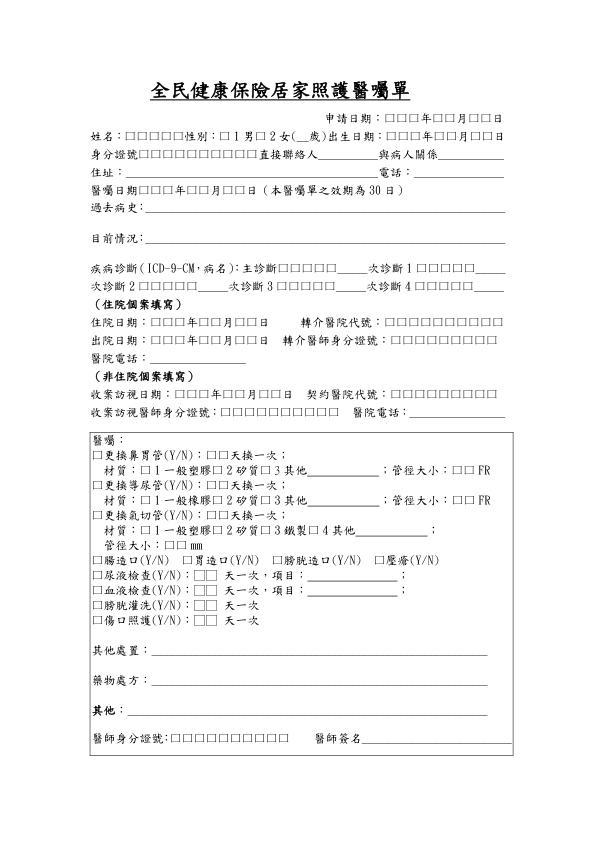check_box: (270, 553, 285, 567), (138, 462, 153, 476), (210, 493, 224, 507), (91, 507, 104, 522), (91, 551, 104, 566), (308, 523, 321, 538), (254, 126, 266, 142), (180, 553, 194, 566), (139, 493, 152, 507), (219, 128, 230, 144), (211, 524, 224, 537), (373, 553, 385, 567), (259, 523, 271, 537), (91, 449, 104, 461), (211, 464, 224, 476), (260, 493, 271, 507), (92, 478, 104, 490), (92, 584, 104, 596), (91, 613, 103, 625), (259, 464, 271, 476), (139, 525, 152, 536), (92, 569, 103, 581), (91, 599, 103, 610)
input: (145, 230, 508, 248), (127, 702, 489, 719), (146, 201, 508, 217), (151, 644, 489, 659), (151, 672, 489, 687), (125, 163, 375, 180), (363, 729, 511, 748), (384, 312, 505, 330), (169, 728, 289, 745), (388, 332, 498, 349), (138, 146, 257, 161), (218, 405, 342, 419), (387, 387, 501, 402), (408, 404, 508, 421), (149, 350, 248, 367), (413, 165, 506, 181), (306, 585, 399, 600), (308, 493, 380, 511), (356, 522, 428, 540), (307, 570, 396, 583), (308, 463, 380, 479), (437, 148, 504, 163), (274, 279, 335, 295), (319, 146, 376, 163), (124, 128, 183, 143), (278, 260, 337, 275), (412, 279, 473, 293), (137, 279, 197, 293), (415, 261, 474, 273), (338, 258, 365, 279), (149, 332, 186, 346), (474, 260, 506, 276), (386, 128, 420, 143), (150, 315, 185, 329), (174, 387, 209, 401), (385, 110, 419, 124), (473, 280, 504, 295), (191, 614, 220, 630), (139, 184, 172, 198), (221, 182, 246, 200), (450, 491, 475, 508), (335, 280, 363, 295), (432, 126, 456, 143), (192, 567, 219, 582), (191, 598, 219, 612), (198, 281, 228, 294), (257, 386, 283, 401), (467, 109, 491, 125), (450, 463, 477, 477), (191, 583, 218, 597), (468, 128, 493, 143), (234, 313, 257, 329), (197, 332, 221, 347), (205, 478, 230, 492), (234, 332, 257, 347), (221, 386, 244, 401), (186, 183, 210, 196), (432, 110, 455, 123), (203, 508, 230, 519), (163, 538, 187, 550), (197, 315, 220, 327), (205, 449, 230, 460), (297, 128, 310, 142)
text: (144, 78, 417, 105), (86, 261, 277, 276), (246, 182, 405, 199), (282, 333, 386, 351), (89, 405, 217, 419), (94, 367, 197, 384), (92, 296, 184, 312), (297, 313, 381, 330), (105, 508, 201, 522), (104, 612, 190, 627), (104, 449, 203, 462), (86, 387, 173, 401), (104, 478, 201, 490), (104, 598, 191, 611), (306, 387, 386, 401), (309, 129, 383, 144), (92, 731, 170, 745), (382, 462, 448, 478), (383, 492, 449, 508), (104, 551, 169, 567), (104, 569, 190, 581), (104, 584, 190, 596), (259, 145, 317, 162), (322, 110, 383, 126), (229, 478, 288, 493), (89, 332, 147, 347), (153, 493, 211, 508), (87, 201, 144, 216), (89, 350, 146, 365), (89, 146, 138, 163), (89, 315, 147, 329), (92, 672, 146, 687), (89, 231, 144, 245), (351, 405, 406, 419), (89, 182, 137, 198), (229, 450, 292, 462), (379, 148, 437, 161), (154, 523, 211, 536), (228, 278, 273, 294), (101, 539, 160, 551), (365, 279, 412, 294), (153, 465, 211, 477), (312, 732, 360, 746), (367, 261, 411, 276), (92, 644, 147, 656), (229, 510, 289, 521), (89, 279, 135, 293), (91, 701, 123, 720), (223, 568, 261, 583), (223, 584, 262, 598), (273, 492, 306, 508), (86, 129, 123, 143), (87, 164, 124, 178), (101, 523, 138, 537), (273, 462, 305, 478), (377, 164, 411, 179), (223, 614, 259, 628), (322, 524, 355, 539), (271, 524, 308, 537), (92, 433, 126, 447), (225, 493, 259, 507), (183, 129, 216, 143), (99, 493, 137, 505), (269, 568, 304, 581), (225, 464, 260, 477), (223, 599, 260, 611), (226, 524, 258, 537), (271, 584, 303, 596), (101, 465, 135, 476), (232, 128, 253, 142), (477, 462, 495, 478), (477, 492, 495, 508), (268, 130, 289, 142), (220, 315, 234, 330), (189, 540, 207, 551), (456, 111, 468, 127), (492, 111, 504, 126), (258, 333, 270, 348), (246, 387, 257, 403), (186, 333, 198, 347), (282, 388, 294, 402), (421, 129, 432, 144), (494, 130, 506, 143), (258, 315, 269, 329), (221, 333, 232, 347), (211, 181, 220, 198), (174, 182, 184, 197), (420, 111, 431, 124), (458, 130, 468, 144), (211, 387, 221, 401), (186, 315, 196, 327)
